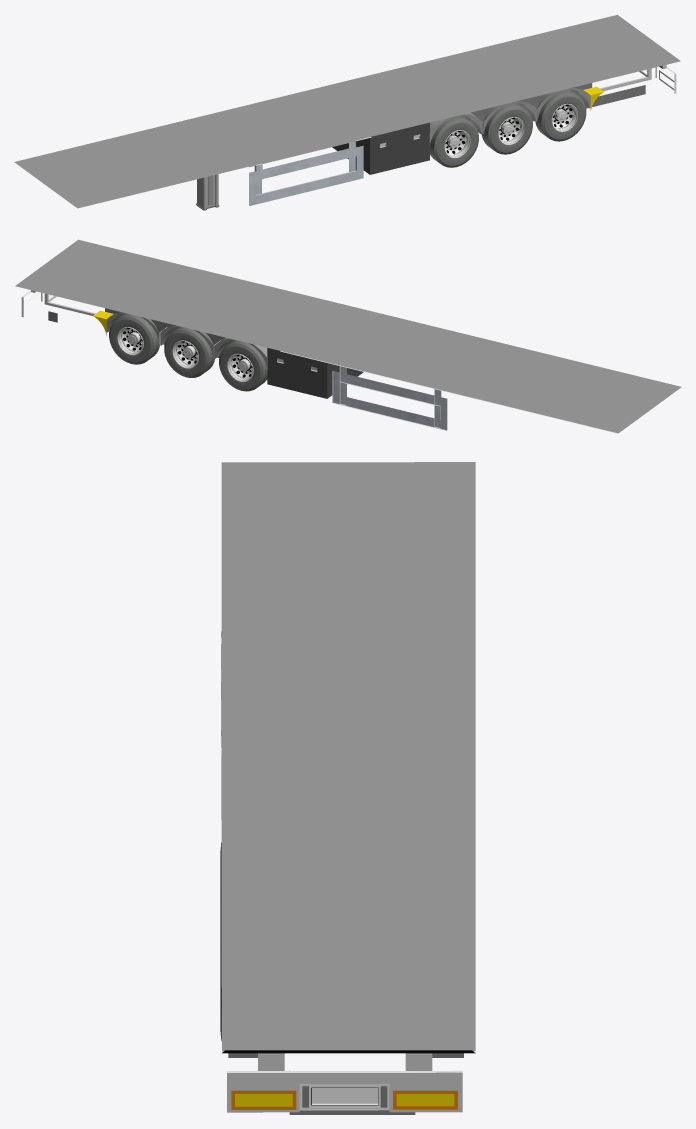
File: trailer-nobox.glb
3 views of the same model, one above another, from view 1: azimuth 30°, elevation 25°; view 2: azimuth 150°, elevation 25°; view 3: azimuth 270°, elevation 25° (orthographic). The views are drawn at different scales.
Visible parts, largest first — view 1: bodycar; view 2: bodycar; view 3: bodycar.
Part boxes in pixels (x1,y1,x2,y2): bodycar: (14, 15, 680, 210); bodycar: (15, 239, 681, 433); bodycar: (220, 462, 475, 1114).
Size of the model in its own units: 9.22 by 0.7692 by 1.69.
Materials: 17 (1 with a texture image).
